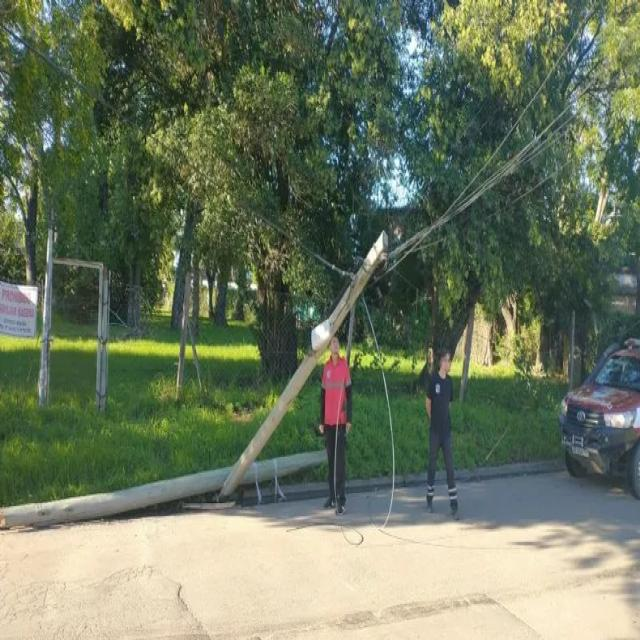Inclined Pole: (215, 227, 392, 498), (0, 440, 328, 538)
